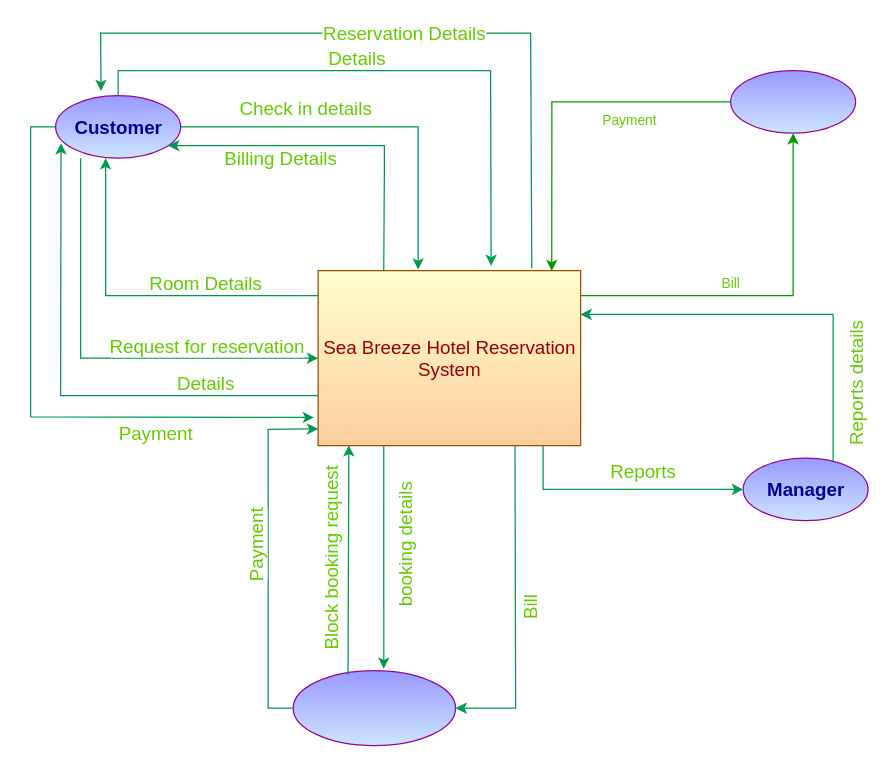
Some shapes in this 890 by 768 pixel diagram are drawn without their labels. The shapes that lost their labels are listed below. From the top down, each one's centre as x and y in pixels, then its label:
the point at 792,101: No-show Customer
the point at 374,707: Travel Company
